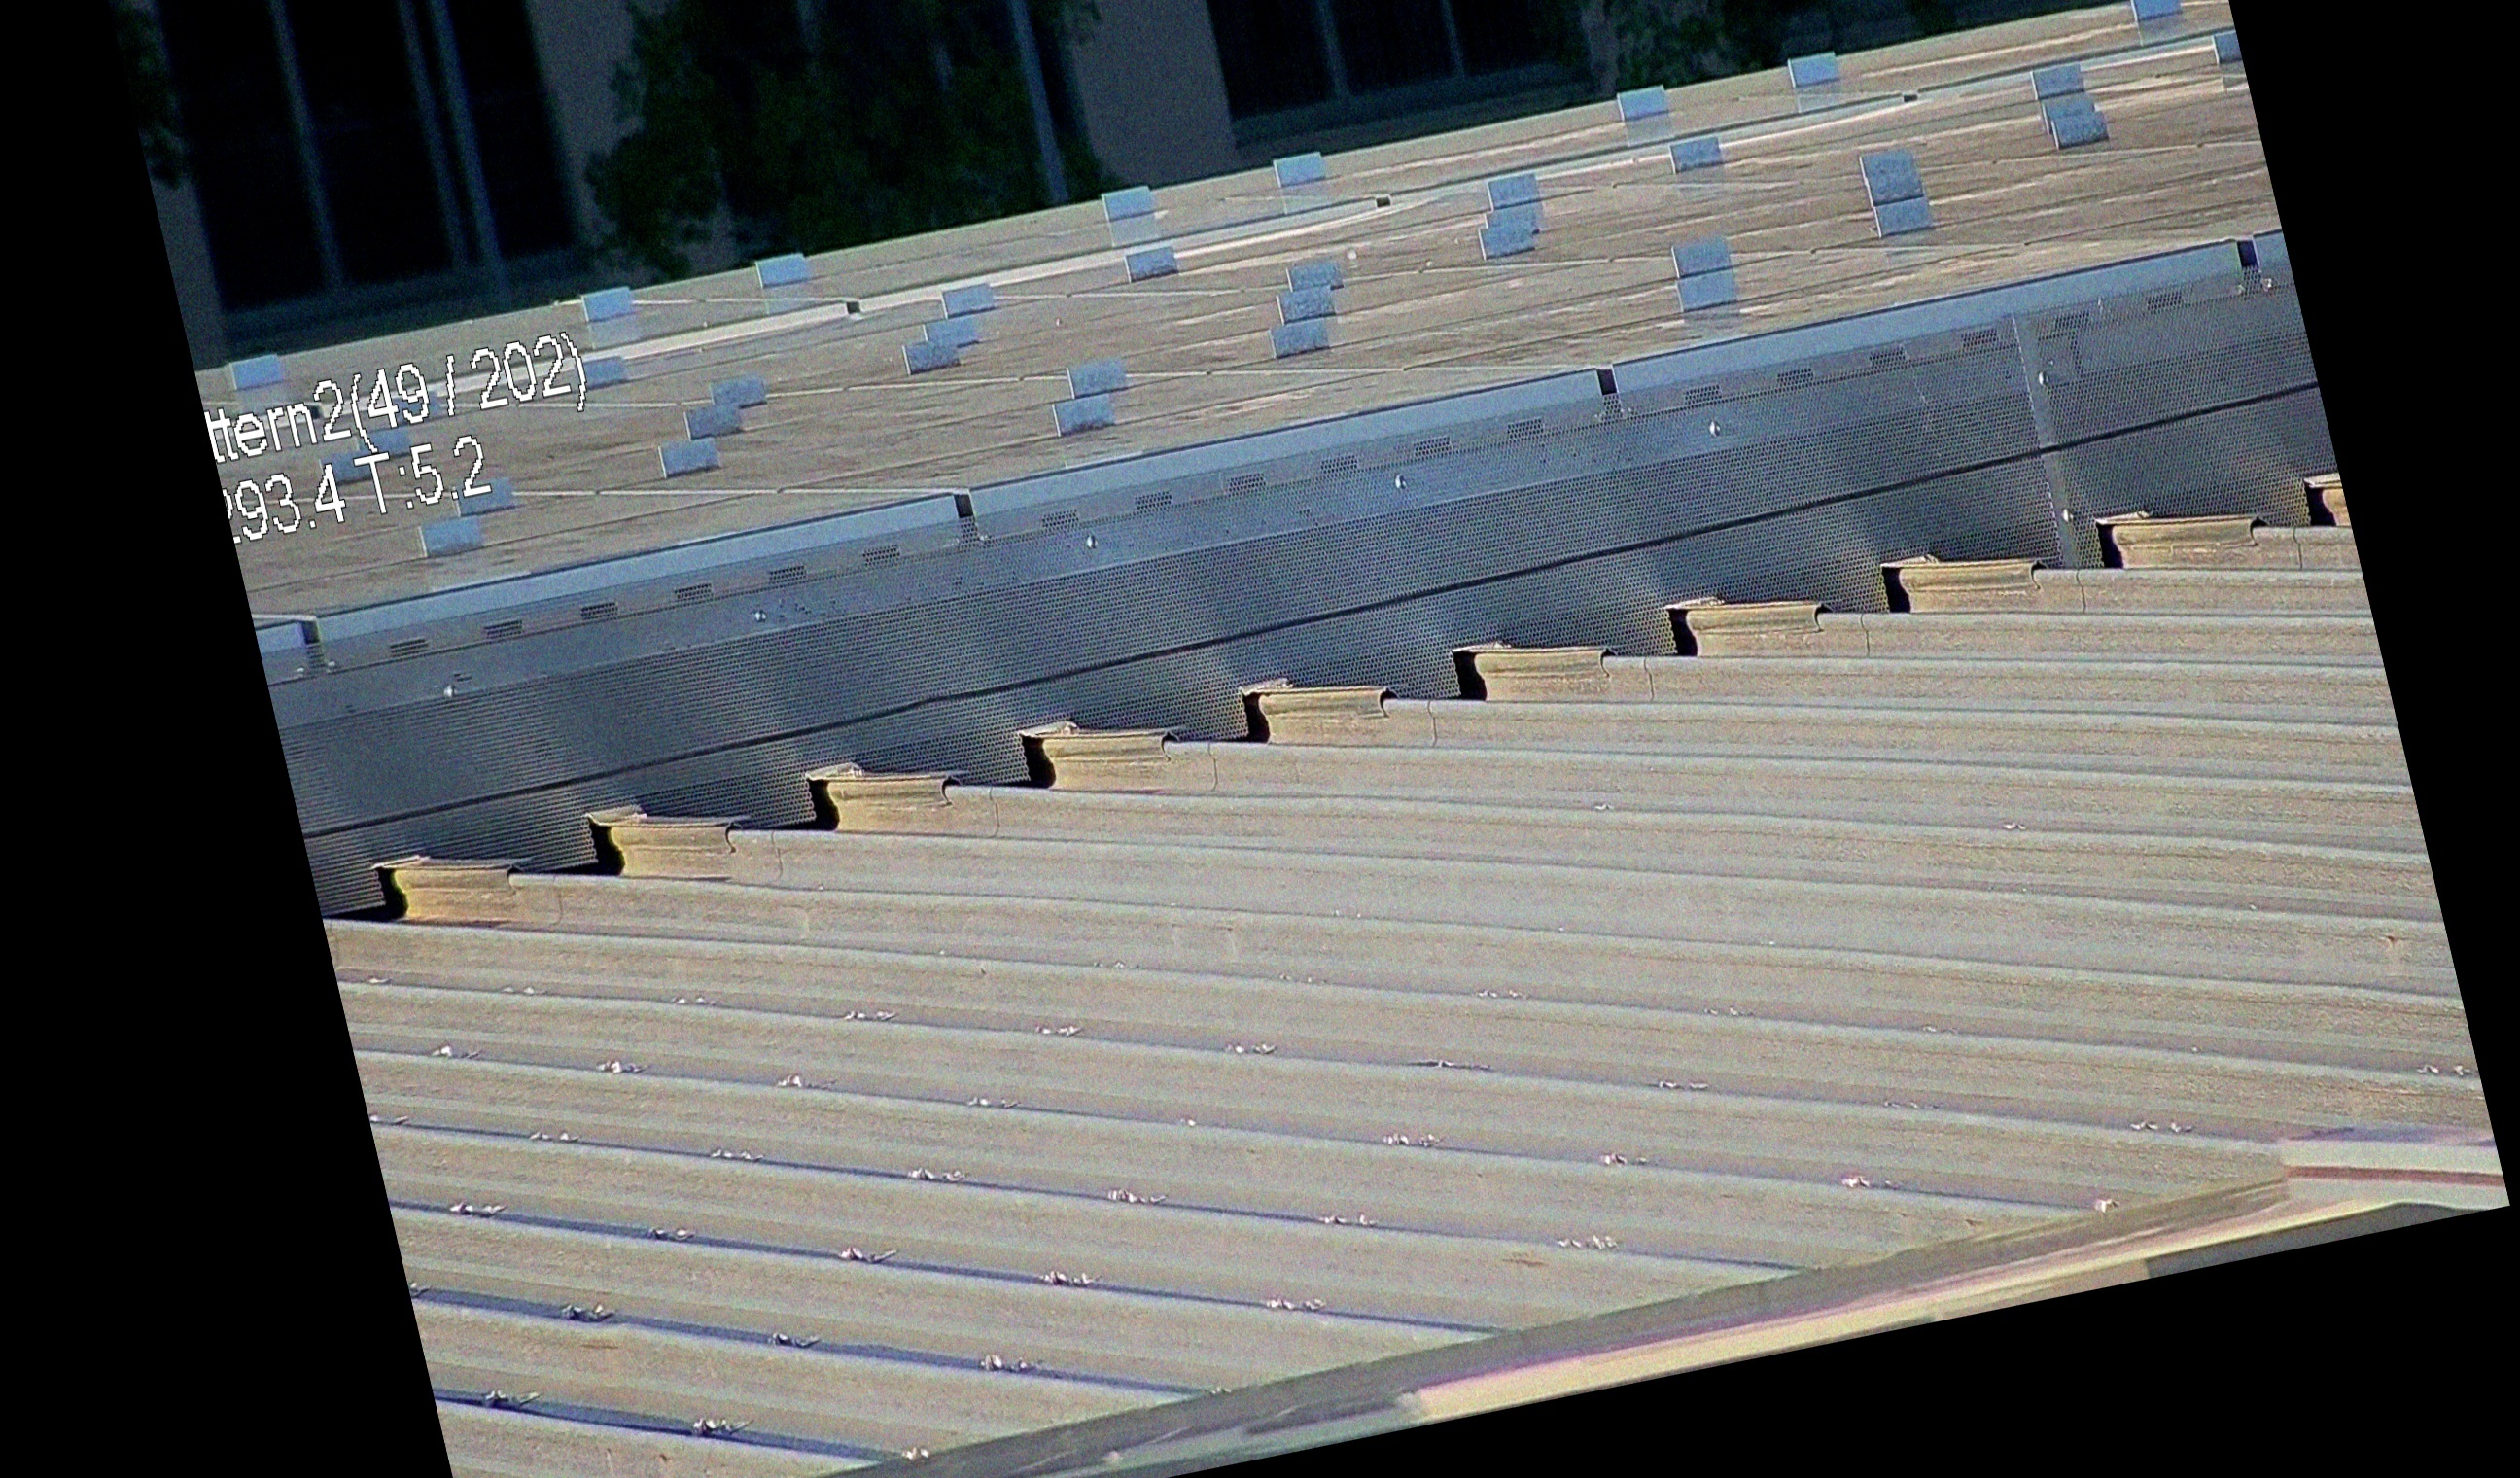Other: (554, 806, 619, 890)
